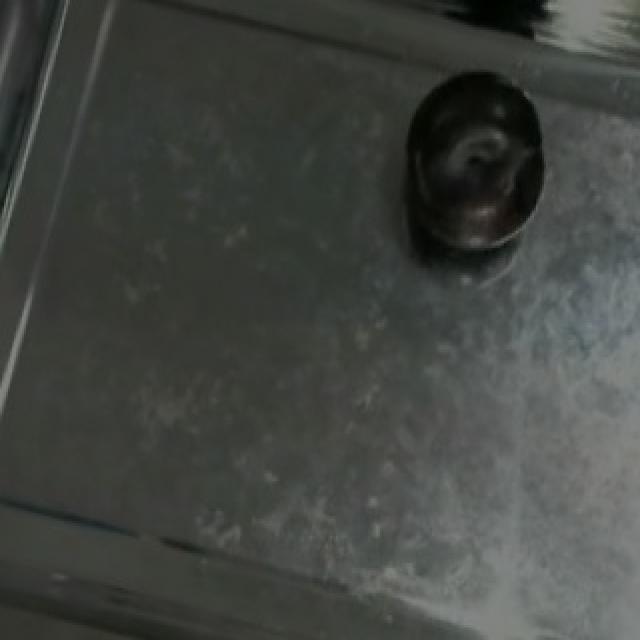Fruit: (392, 52, 562, 268)
